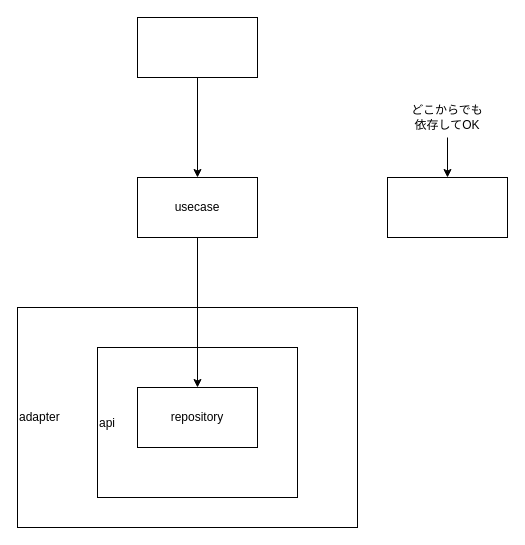
This 525x545 diagram has some shape labels left out. Here are the shapes that lost their labels. From the top down, the centre of each, then its label:
(197,47): react
(447,207): domain
